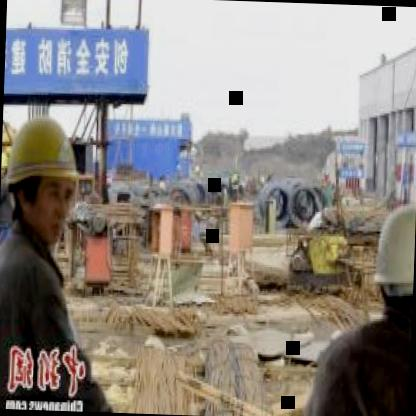helmet: (0, 102, 93, 254), (363, 183, 416, 334)
